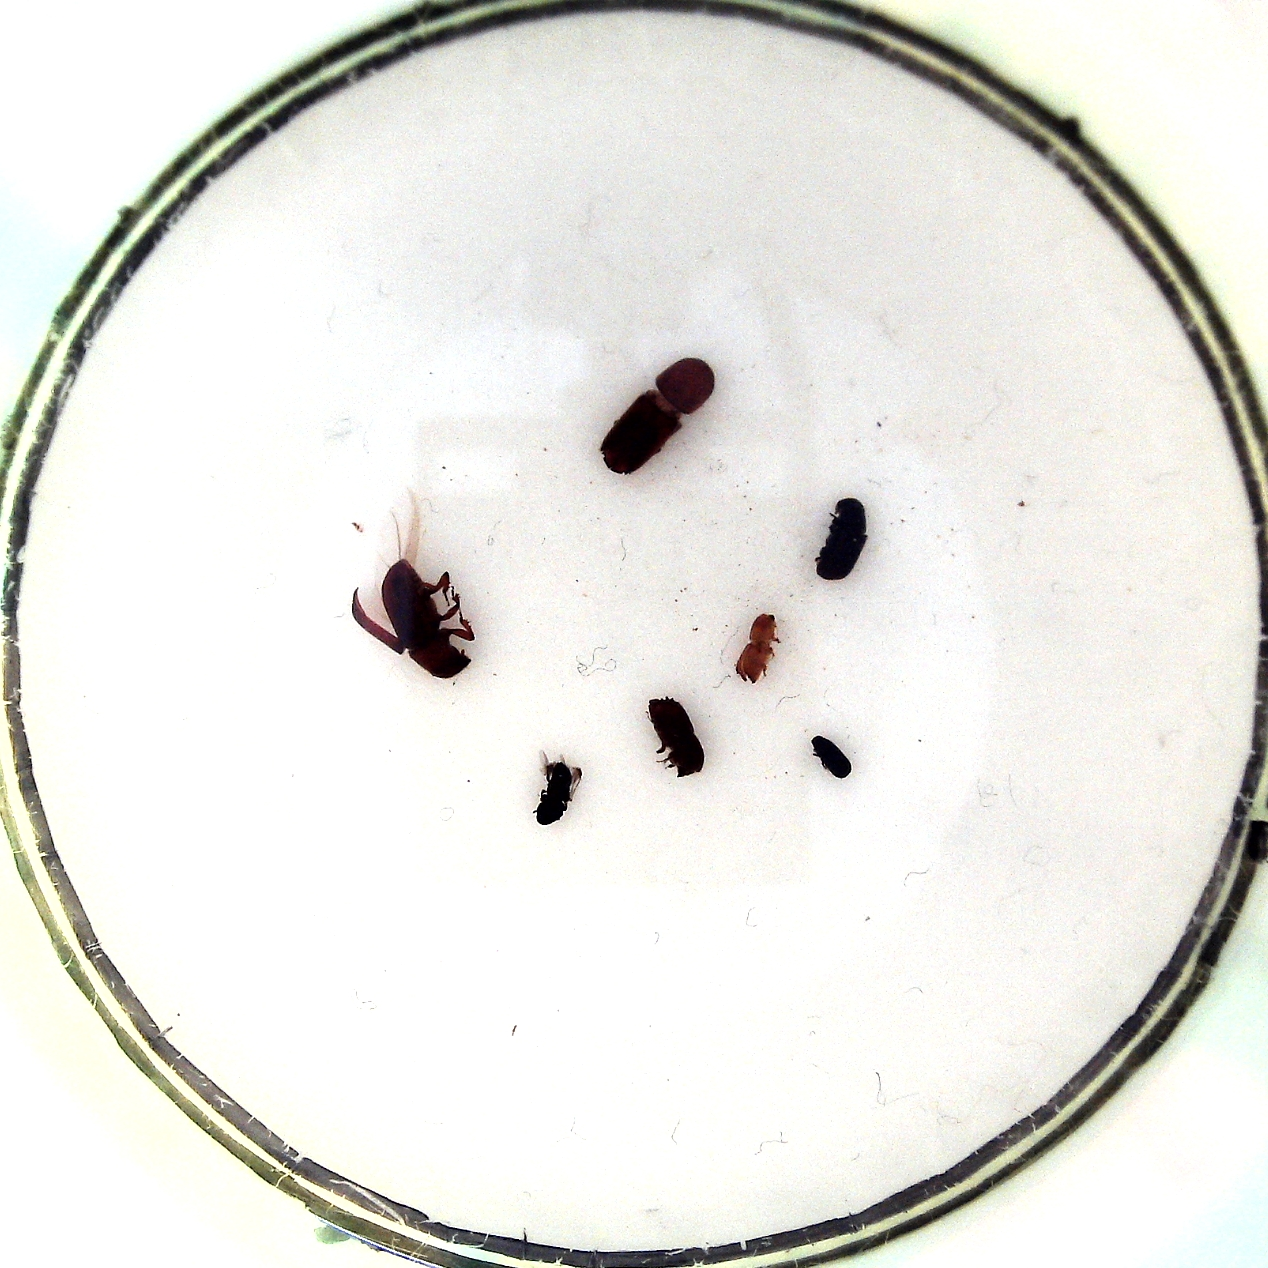Boerner: (591, 353, 718, 484)
Leconte: (341, 484, 482, 682)
Linnaeus: (644, 692, 713, 781)
acuminatus: (732, 610, 784, 685)
armandi: (809, 491, 877, 586)
coleoptera: (526, 747, 593, 829), (804, 727, 859, 781)
